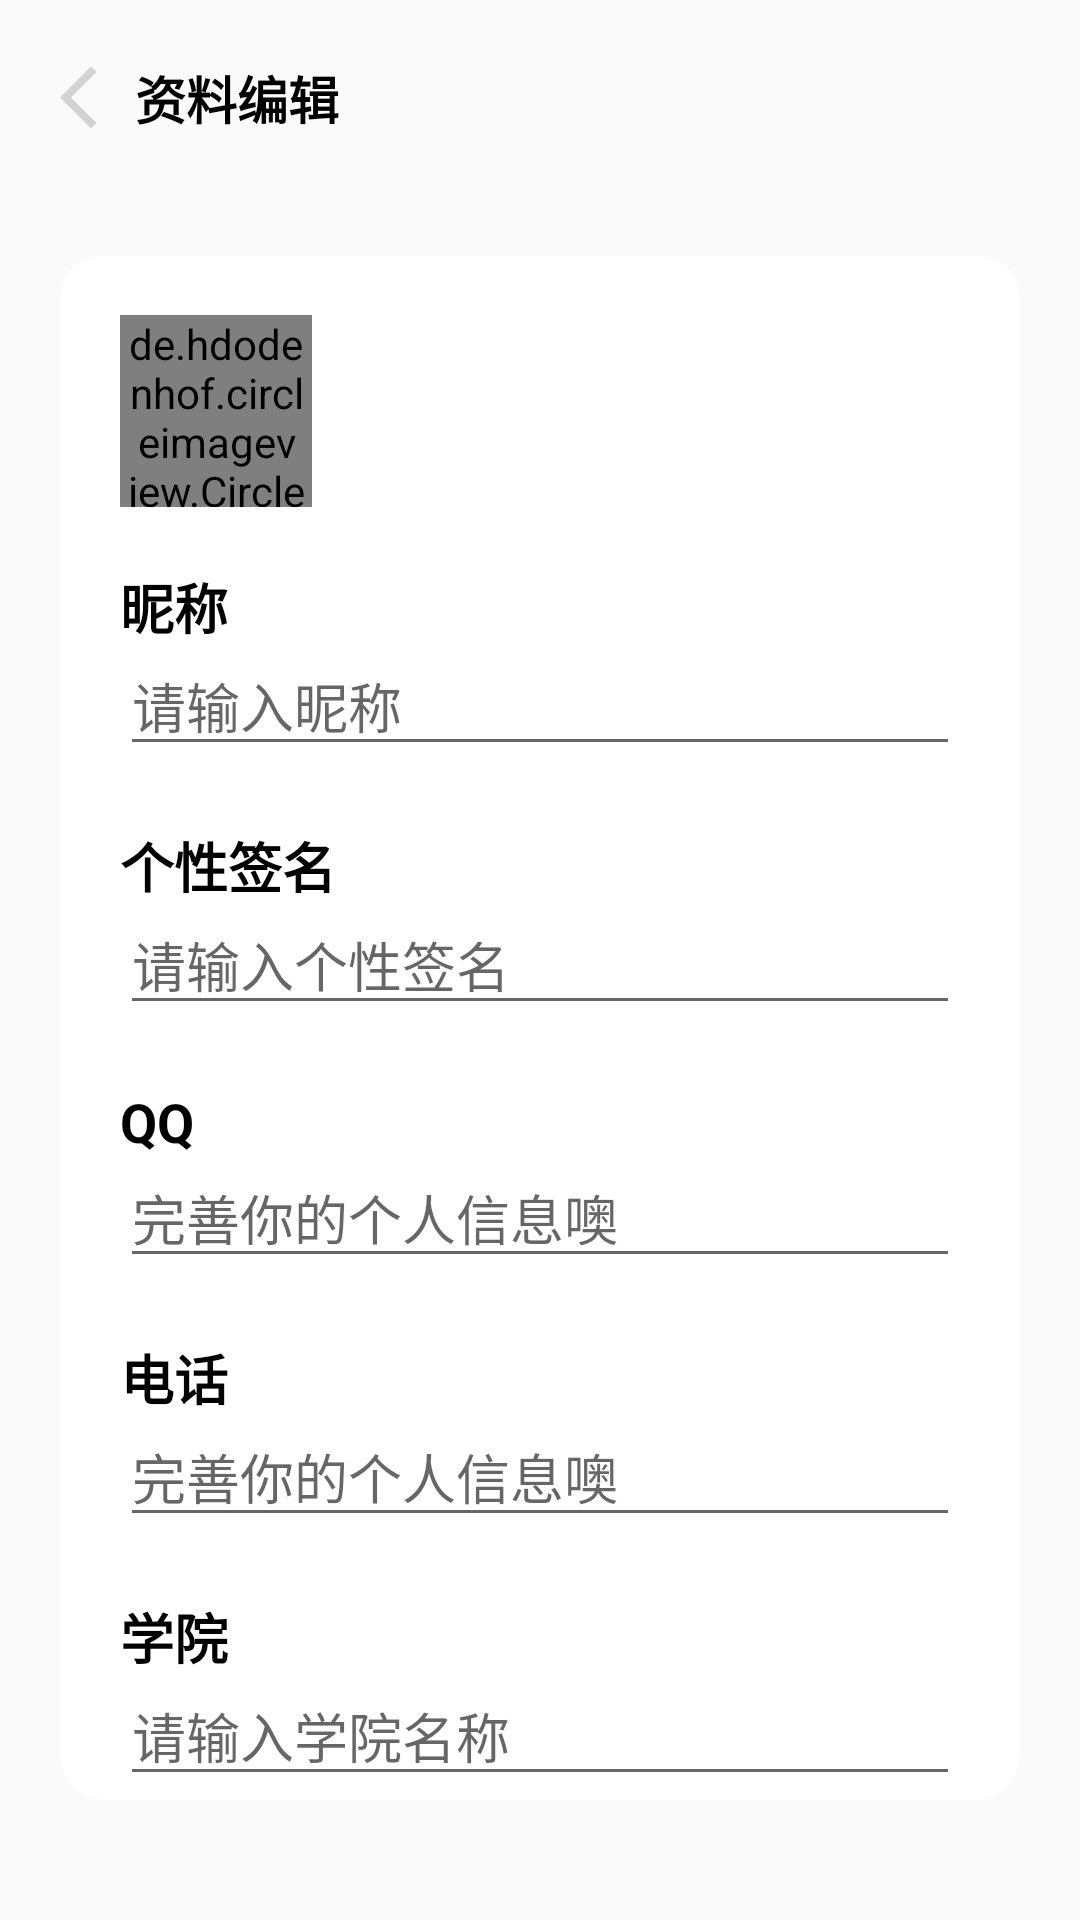

Locate icon controls on the screen. Image size 1080×1920, boxes as (left=x1, top=y1, right=x2, bottom=y2).
login back arrow: (left=60, top=67, right=96, bottom=128)
